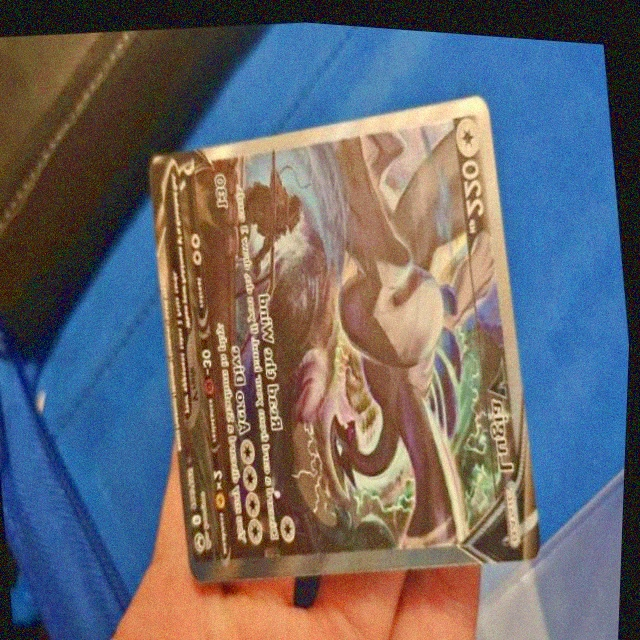card: (148, 86, 543, 582)
